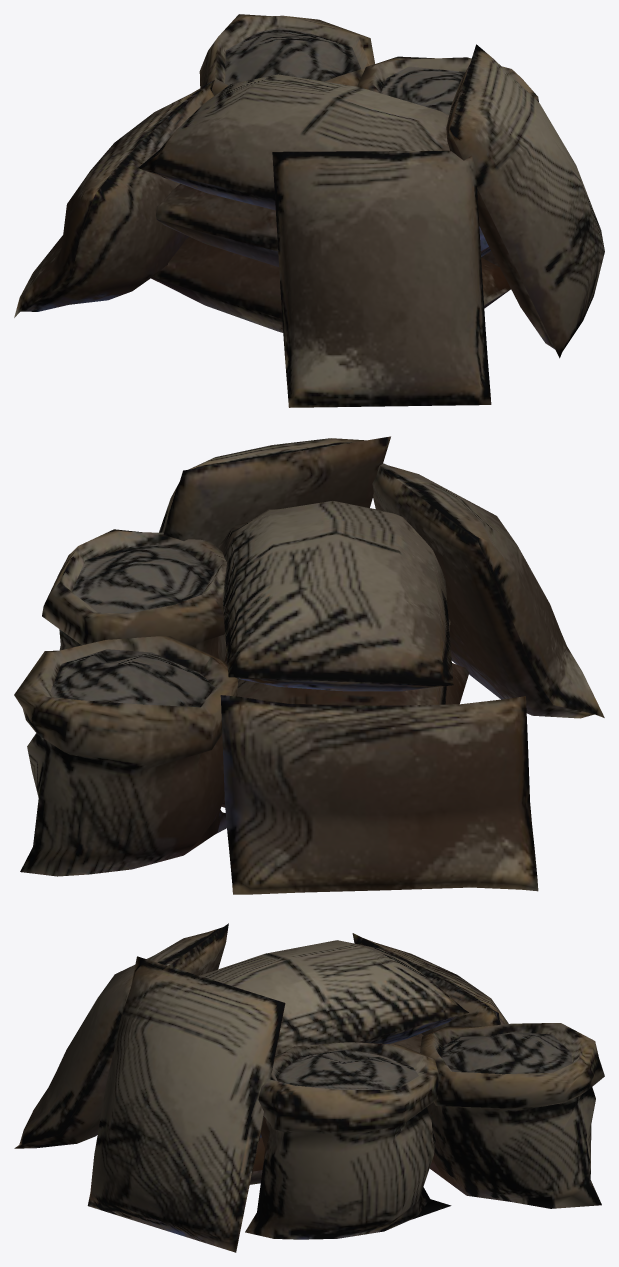
The model's file is bag.fbx.
3 views of the same model, one above another, from view 1: azimuth 30°, elevation 25°; view 2: azimuth 150°, elevation 25°; view 3: azimuth 270°, elevation 25° (orthographic). The views are drawn at different scales.
Visible parts, largest first — view 1: Strove.002; view 2: Strove.002; view 3: Strove.002.
Boxes of the visible parts, left/top/right/bottom form: Strove.002: left=14, top=14, right=604, bottom=407; Strove.002: left=14, top=436, right=604, bottom=894; Strove.002: left=14, top=923, right=604, bottom=1252.
Size of the model in its own units: 104 by 49.21 by 121.
Materials: 1 (1 with a texture image).
